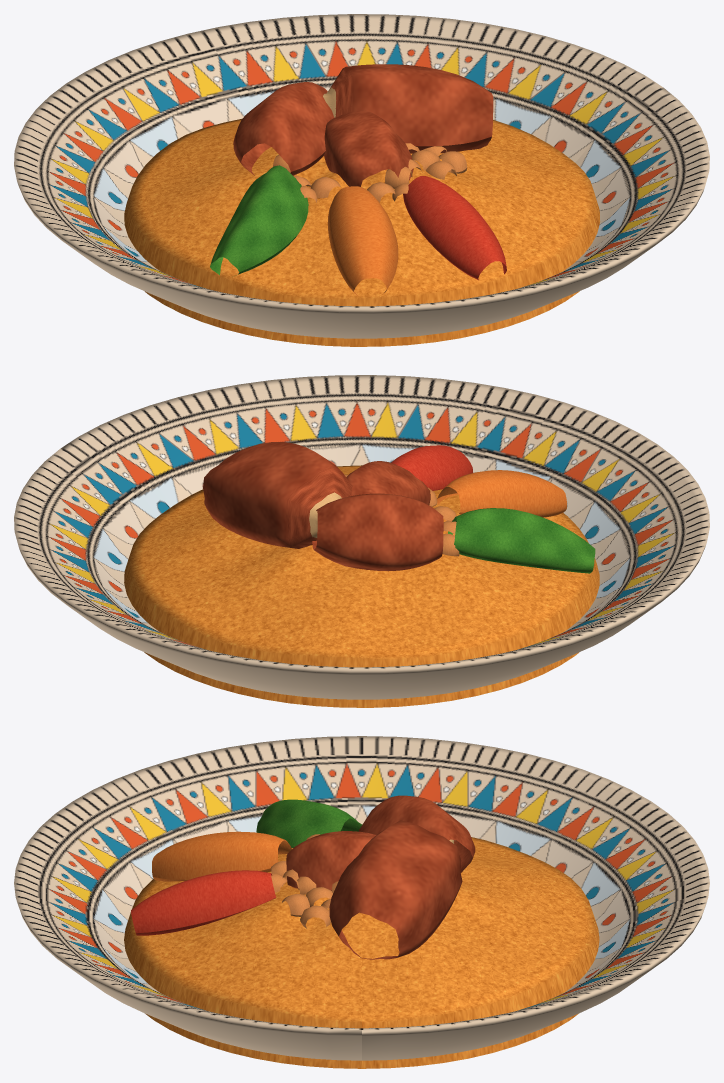
File: Couscous_Plat_070pct.fbx
The picture shows the model from 3 angles, top to bottom: view 1: azimuth 30°, elevation 25°; view 2: azimuth 150°, elevation 25°; view 3: azimuth 270°, elevation 25°; orthographic projection.
Visible parts, largest first — view 1: 00_Plate_Tebsi_Ceramic, 01_Couscous_Semolina_Mound, 02_Meat_Lamb_Shank_Main, 03_Meat_Braised_Left, 06_Veg_Green_Pepper_Felfel, 08_Veg_Pumpkin_Red_Front, 07_Veg_Carrot_FrontLeft, 04_Meat_Braised_Front, 05_Chickpeas_Cluster; view 2: 00_Plate_Tebsi_Ceramic, 01_Couscous_Semolina_Mound, 02_Meat_Lamb_Shank_Main, 03_Meat_Braised_Left, 06_Veg_Green_Pepper_Felfel, 07_Veg_Carrot_FrontLeft, 08_Veg_Pumpkin_Red_Front, 04_Meat_Braised_Front, 05_Chickpeas_Cluster; view 3: 00_Plate_Tebsi_Ceramic, 01_Couscous_Semolina_Mound, 02_Meat_Lamb_Shank_Main, 08_Veg_Pumpkin_Red_Front, 07_Veg_Carrot_FrontLeft, 04_Meat_Braised_Front, 03_Meat_Braised_Left, 06_Veg_Green_Pepper_Felfel, 05_Chickpeas_Cluster.
Boxes of the visible parts, box(x1,y1,x2,y2) form: 00_Plate_Tebsi_Ceramic: box(14, 14, 709, 338); 01_Couscous_Semolina_Mound: box(124, 118, 600, 346); 02_Meat_Lamb_Shank_Main: box(323, 64, 493, 153); 03_Meat_Braised_Left: box(233, 82, 334, 175); 06_Veg_Green_Pepper_Felfel: box(210, 165, 308, 275); 08_Veg_Pumpkin_Red_Front: box(403, 176, 506, 280); 07_Veg_Carrot_FrontLeft: box(327, 186, 398, 295); 04_Meat_Braised_Front: box(324, 110, 413, 186); 05_Chickpeas_Cluster: box(273, 143, 467, 202); 00_Plate_Tebsi_Ceramic: box(14, 375, 709, 699); 01_Couscous_Semolina_Mound: box(124, 465, 599, 707); 02_Meat_Lamb_Shank_Main: box(203, 442, 352, 548); 03_Meat_Braised_Left: box(312, 493, 443, 571); 06_Veg_Green_Pepper_Felfel: box(448, 508, 595, 573); 07_Veg_Carrot_FrontLeft: box(437, 470, 566, 517); 08_Veg_Pumpkin_Red_Front: box(391, 445, 473, 490); 04_Meat_Braised_Front: box(346, 461, 430, 505); 05_Chickpeas_Cluster: box(344, 474, 459, 556); 00_Plate_Tebsi_Ceramic: box(14, 736, 709, 1060); 01_Couscous_Semolina_Mound: box(124, 837, 599, 1068); 02_Meat_Lamb_Shank_Main: box(329, 820, 462, 959); 08_Veg_Pumpkin_Red_Front: box(131, 870, 276, 935); 07_Veg_Carrot_FrontLeft: box(152, 831, 291, 881); 04_Meat_Braised_Front: box(286, 831, 376, 890); 03_Meat_Braised_Left: box(358, 795, 475, 872); 06_Veg_Green_Pepper_Felfel: box(256, 799, 362, 847); 05_Chickpeas_Cluster: box(271, 834, 338, 928).
Size of the model in its own units: 32 by 8.73 by 32.
